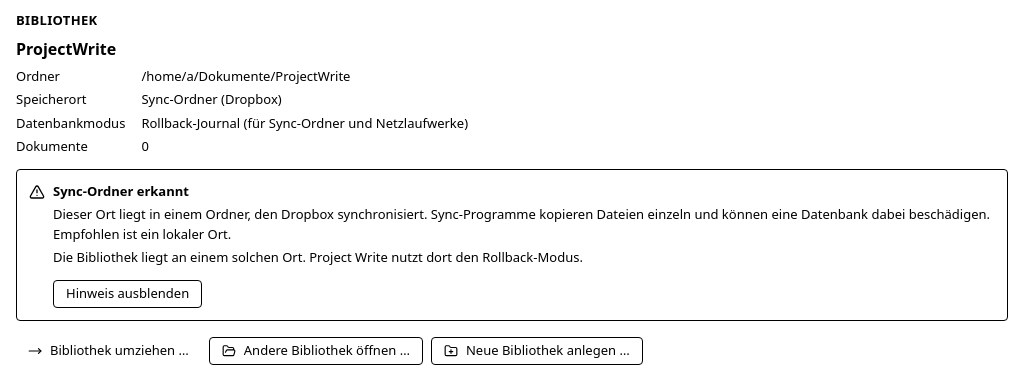
it: LibraryPanel › shows the warning for an unconfirmed sync folder until it is dismissed
Expected: the element with test id "library-location-warning" shows "Dropbox", [53,205,990,242]
Click the button "Hinweis ausblenden": (128, 294) [53,280,202,308]
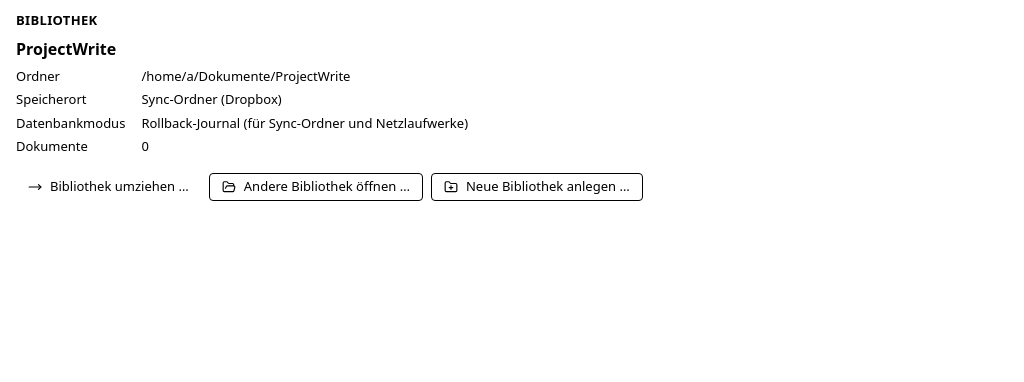
Expected: the text "ProjectWrite" is shown, [16,38,116,60]
Expected: the element with test id "library-location-warning" is gone
